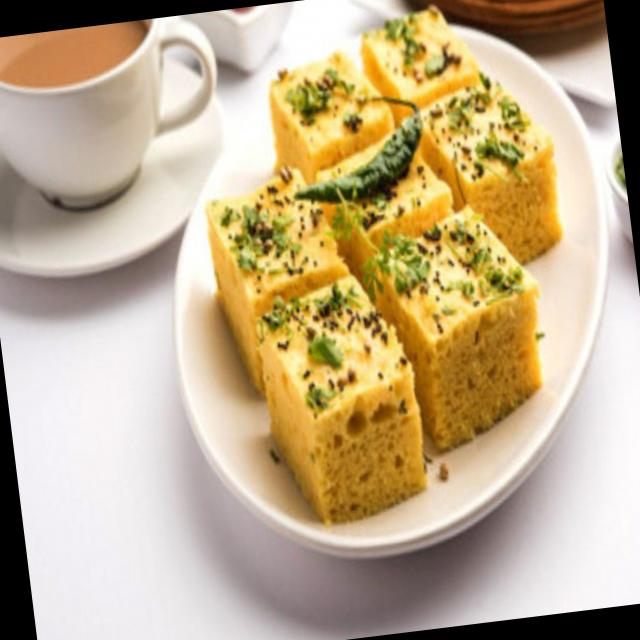dhokla: (192, 11, 602, 520)
